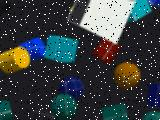Right: (67, 0, 136, 44)
